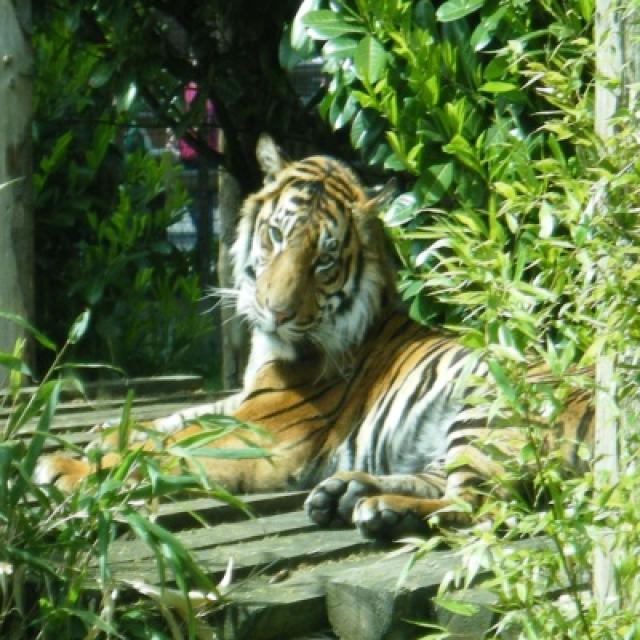Tiger: (154, 136, 496, 539)
